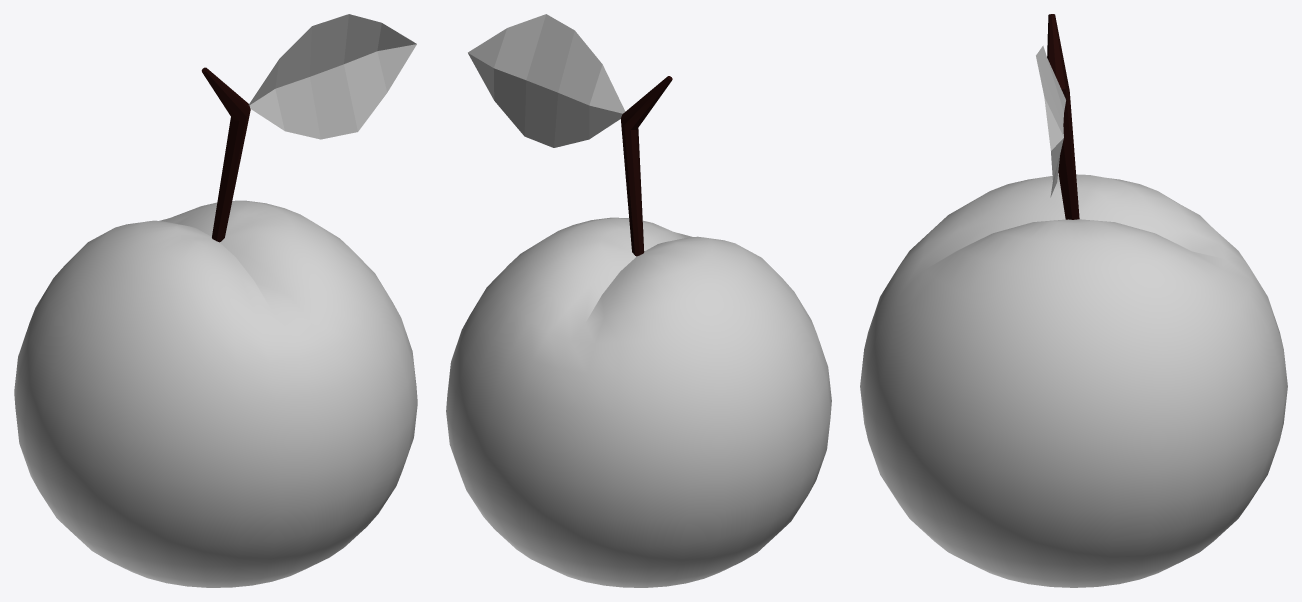
The model's file is Fruit.obj.
The picture shows the model from 3 angles, left to right: view 1: azimuth 30°, elevation 25°; view 2: azimuth 150°, elevation 25°; view 3: azimuth 270°, elevation 25°; orthographic projection. The views are drawn at different scales.
Parts seen in each view (by area): view 1: Fruit; view 2: Fruit; view 3: Fruit.
Boxes of the visible parts, <box> form: Fruit: <box>14,14,417,587</box>; Fruit: <box>446,14,831,587</box>; Fruit: <box>860,14,1287,587</box>.
Size of the model in its own units: 6.3 by 8.74 by 6.04.
